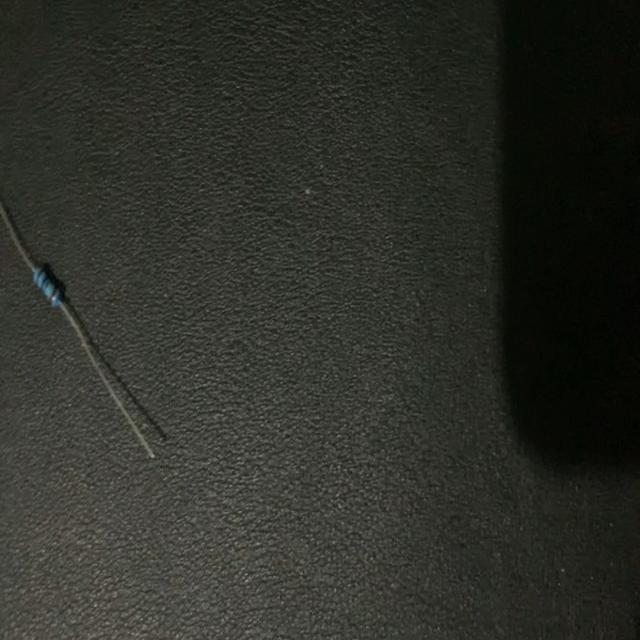resistor: (0, 169, 159, 467)
